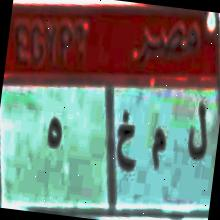5: (44, 112, 68, 152)
khaa: (109, 104, 142, 181)
laam: (182, 96, 212, 166)
meem: (146, 122, 169, 174)
